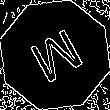M_SE: (23, 22, 87, 88)
